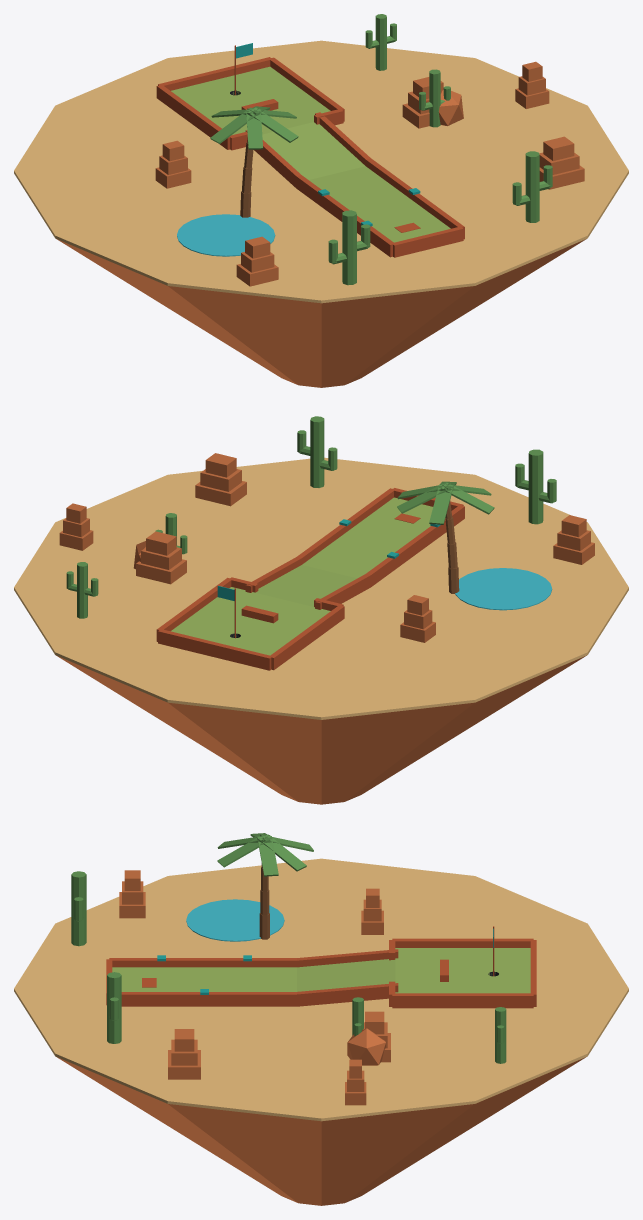
The model's file is hole3.glb.
3 views of the same model, one above another, from view 1: azimuth 30°, elevation 25°; view 2: azimuth 150°, elevation 25°; view 3: azimuth 270°, elevation 25° (orthographic).
Visible parts, largest first — view 1: IslandTop, IslandBase, Turf2, Turf0, Turf1, Pond, Rail11, Rail9, Rail4, Rail3, Rail8, CactusP5 (+13 smaller); view 2: IslandTop, IslandBase, Turf2, Turf0, Pond, Turf1, Rail8, Rail11, Rail9, CactusP5, Rail4, CactusP4 (+12 smaller); view 3: IslandTop, IslandBase, Turf2, Turf0, Pond, Rail4, Turf1, Rail7, Rail11, Rail5, Rail9, RockP8 (+6 smaller).
Part boxes in pixels (<box>): IslandTop: <box>14,40,628,303</box>; IslandBase: <box>56,239,586,387</box>; Turf2: <box>171,66,330,134</box>; Turf0: <box>309,166,450,242</box>; Turf1: <box>262,122,365,179</box>; Pond: <box>177,214,275,256</box>; Rail11: <box>296,175,394,257</box>; Rail9: <box>156,85,231,149</box>; Rail4: <box>365,158,464,239</box>; Rail3: <box>393,226,463,257</box>; Rail8: <box>158,57,272,90</box>; CactusP5: <box>342,210,356,285</box>; IslandTop: <box>14,457,628,719</box>; IslandBase: <box>56,655,586,804</box>; Turf2: <box>171,587,330,655</box>; Turf0: <box>302,497,432,578</box>; Pond: <box>455,568,552,610</box>; Turf1: <box>256,565,356,606</box>; Rail8: <box>158,629,272,670</box>; Rail11: <box>366,506,464,586</box>; Rail9: <box>270,605,344,670</box>; CactusP5: <box>528,449,543,524</box>; Rail4: <box>297,488,393,564</box>; CactusP4: <box>310,416,324,487</box>; IslandTop: <box>14,858,628,1121</box>; IslandBase: <box>57,1057,585,1205</box>; Turf2: <box>395,948,530,993</box>; Turf0: <box>112,967,296,991</box>; Pond: <box>186,899,284,941</box>; Rail4: <box>121,992,296,1006</box>; Turf1: <box>297,959,395,991</box>; Rail7: <box>392,993,533,1008</box>; Rail11: <box>109,958,296,967</box>; Rail5: <box>297,983,398,1006</box>; Rail9: <box>392,938,533,947</box>; RockP8: <box>347,1028,385,1065</box>.
Bounding box in the file's own units: 10 × 5.42 × 10.
